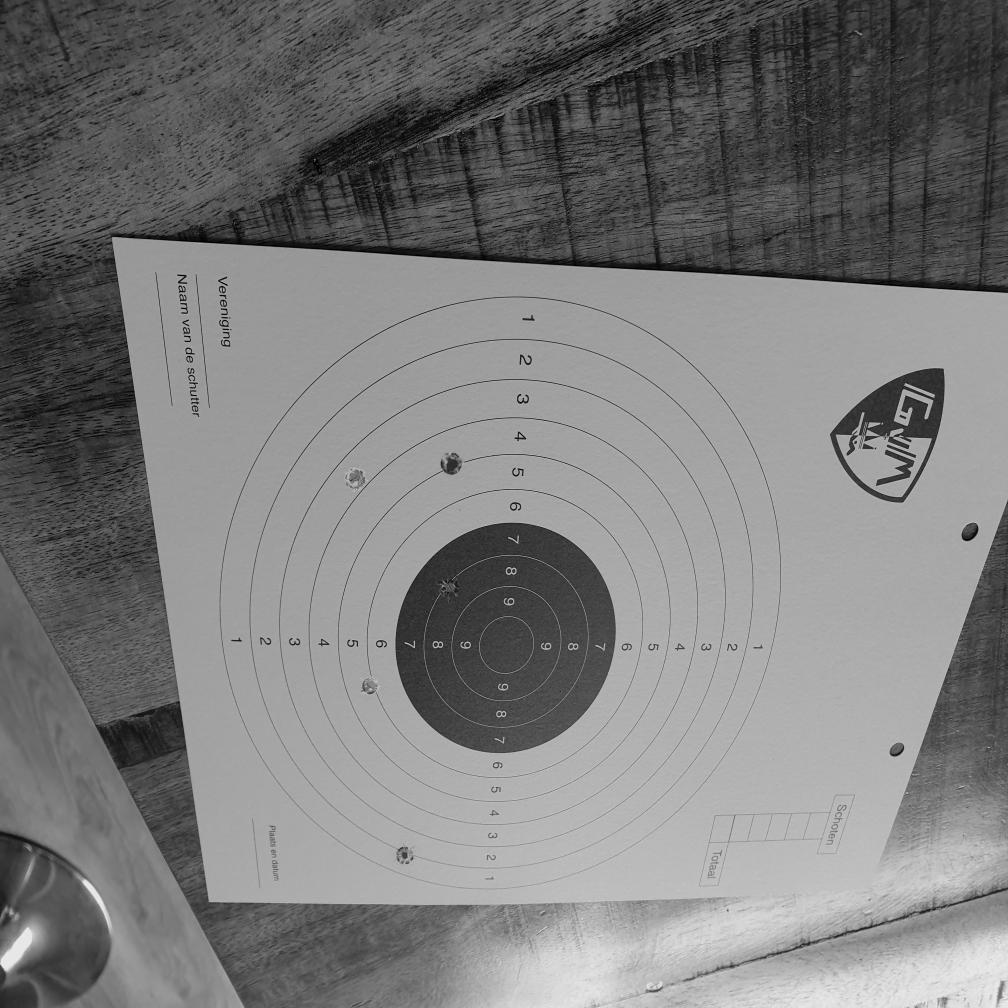2: (394, 841, 416, 866)
3: (344, 467, 369, 492)
5: (440, 451, 464, 475)
6: (360, 676, 380, 695)
8: (436, 577, 461, 605)
Target: (218, 293, 783, 893)
black_contour: (395, 522, 616, 754)
